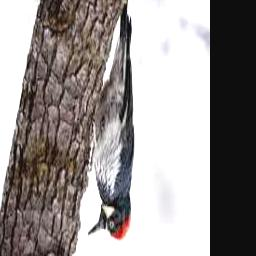Woodpecker: (87, 1, 134, 241)
